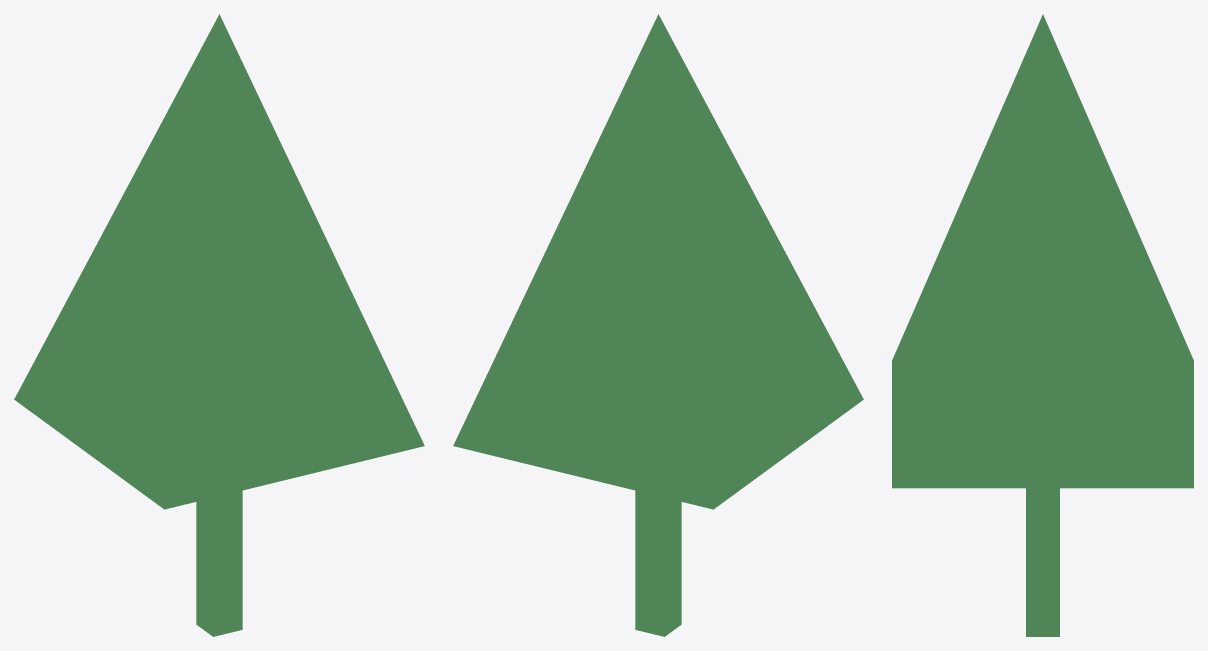
Rendered from pine_mid.glb.
The picture shows the model from 3 angles, left to right: view 1: azimuth 30°, elevation 25°; view 2: azimuth 150°, elevation 25°; view 3: azimuth 270°, elevation 25°; orthographic projection.
Visible parts, largest first — view 1: PineMid; view 2: PineMid; view 3: PineMid.
Part boxes in pixels (x1,y1,x2,y2): PineMid: (14, 14, 424, 636); PineMid: (453, 14, 863, 636); PineMid: (892, 14, 1193, 636).
Bounding box in the file's own units: 8 × 18 × 8.
